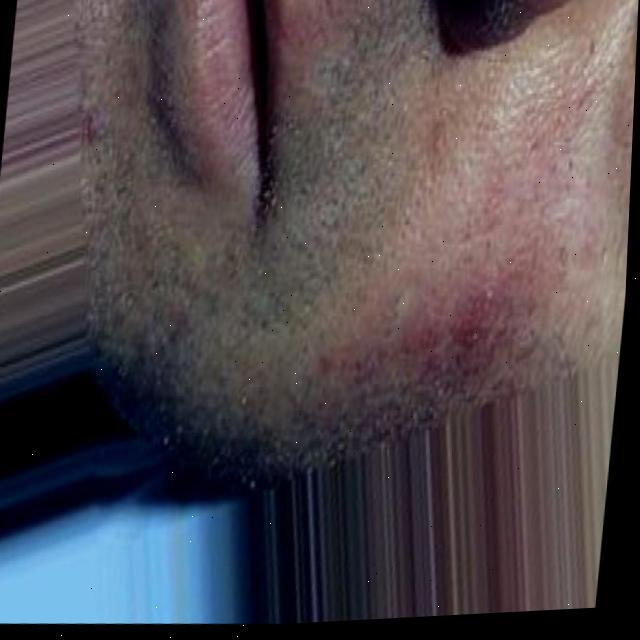Rosacea: (416, 274, 524, 362)
